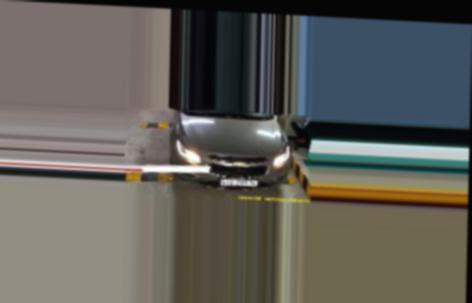License_Plate: (217, 173, 258, 189)
